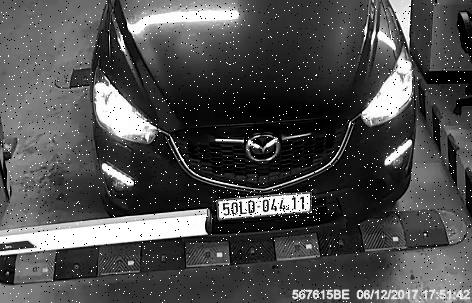License-plate: (213, 190, 318, 222)
